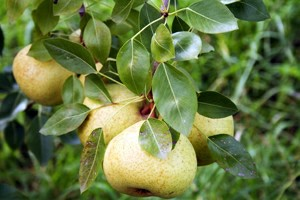pear: (103, 119, 196, 197), (157, 96, 234, 165), (73, 80, 147, 148), (11, 42, 78, 105)
